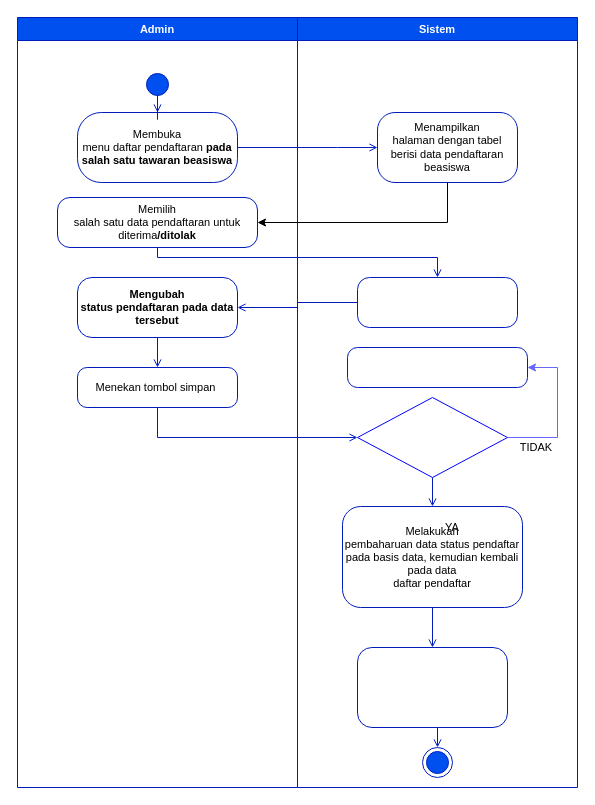
This 595x805 diagram has some shape labels left out. Here are the shapes that lost their labels. From the top down, the centre of each, then its label:
(x=437, y=302): Menampilkan detail data pendaftaran beasiswa oleh mahasiswa
(x=437, y=367): Pengubahan status tidak dapat dilakukan
(x=432, y=437): Apakah status tawaran beasiswa tidak final?
(x=432, y=687): Menampilkan tabel nama dan status yang telah diubah para mahasiswa
